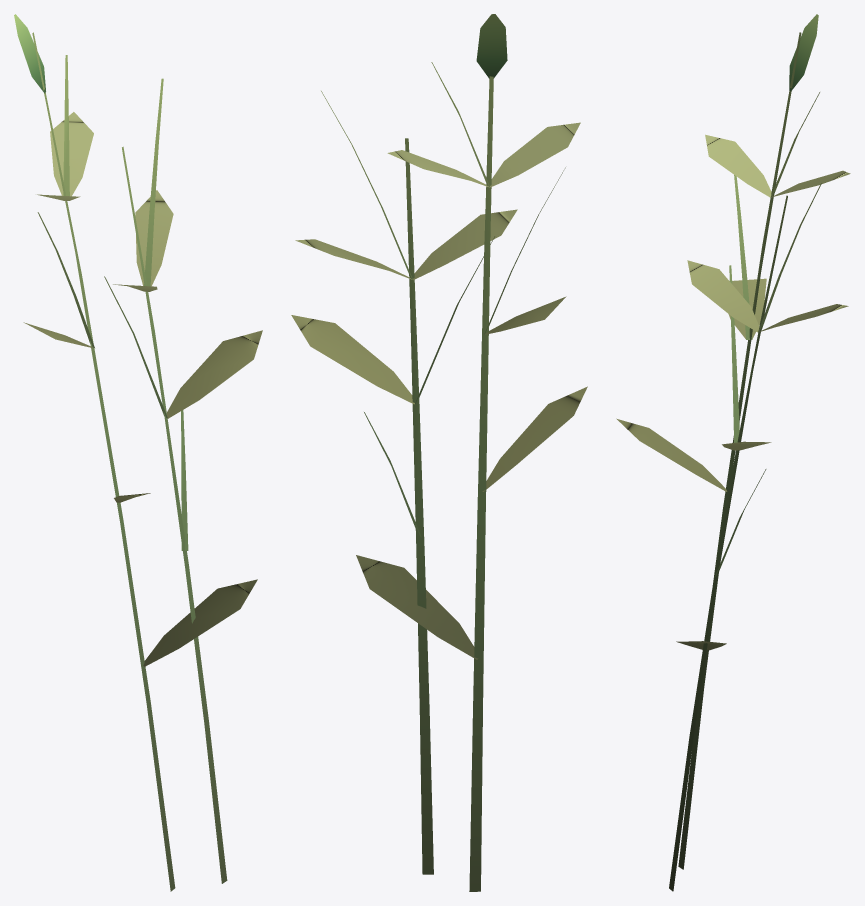
The model's file is RagweedSprig_LOD0.glb.
3 views of the same model, side by side, from view 1: azimuth 30°, elevation 25°; view 2: azimuth 150°, elevation 25°; view 3: azimuth 270°, elevation 25° (orthographic). The views are drawn at different scales.
Parts seen in each view (by area): view 1: RagweedSprig_LOD0; view 2: RagweedSprig_LOD0; view 3: RagweedSprig_LOD0.
Part boxes in pixels (bbox=[...]): RagweedSprig_LOD0: bbox=[14, 14, 262, 891]; RagweedSprig_LOD0: bbox=[291, 14, 587, 891]; RagweedSprig_LOD0: bbox=[616, 14, 850, 891].
Bounding box in the file's own units: 0.097 × 0.3324 × 0.087.
